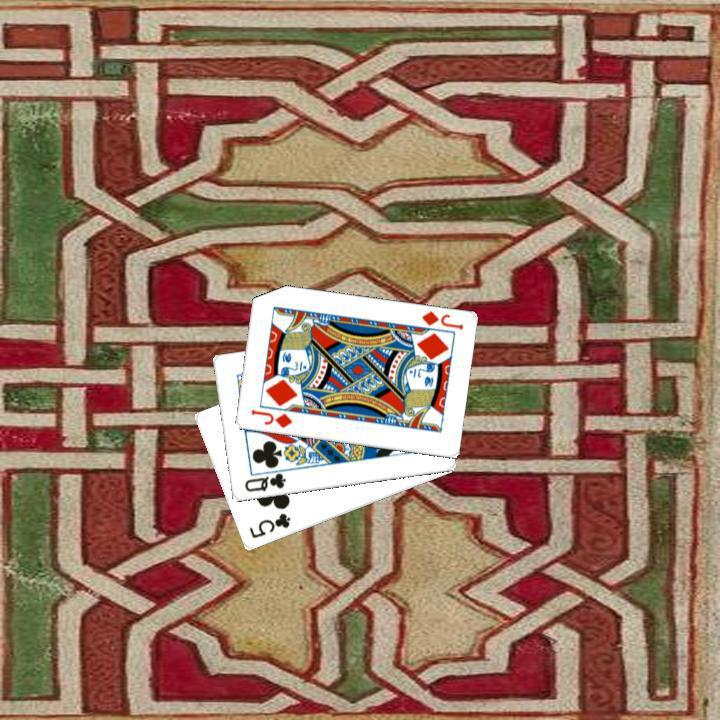5: (245, 509, 292, 541)
J: (246, 405, 294, 430), (417, 307, 465, 332)
Q: (240, 469, 288, 494)
